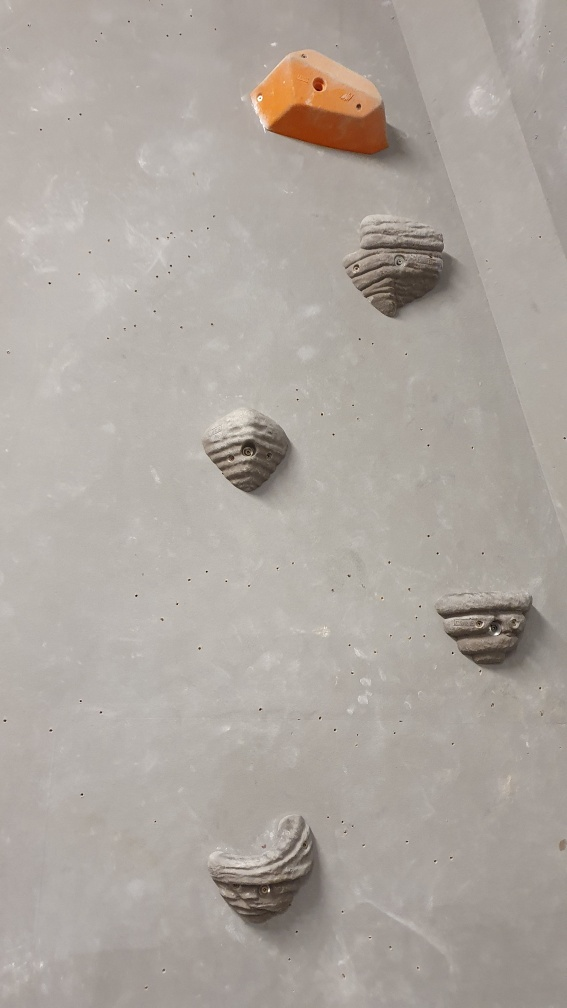Jug: (204, 812, 322, 928), (341, 210, 449, 321), (431, 586, 539, 669), (200, 404, 295, 496)
Pinch: (248, 44, 395, 157)
